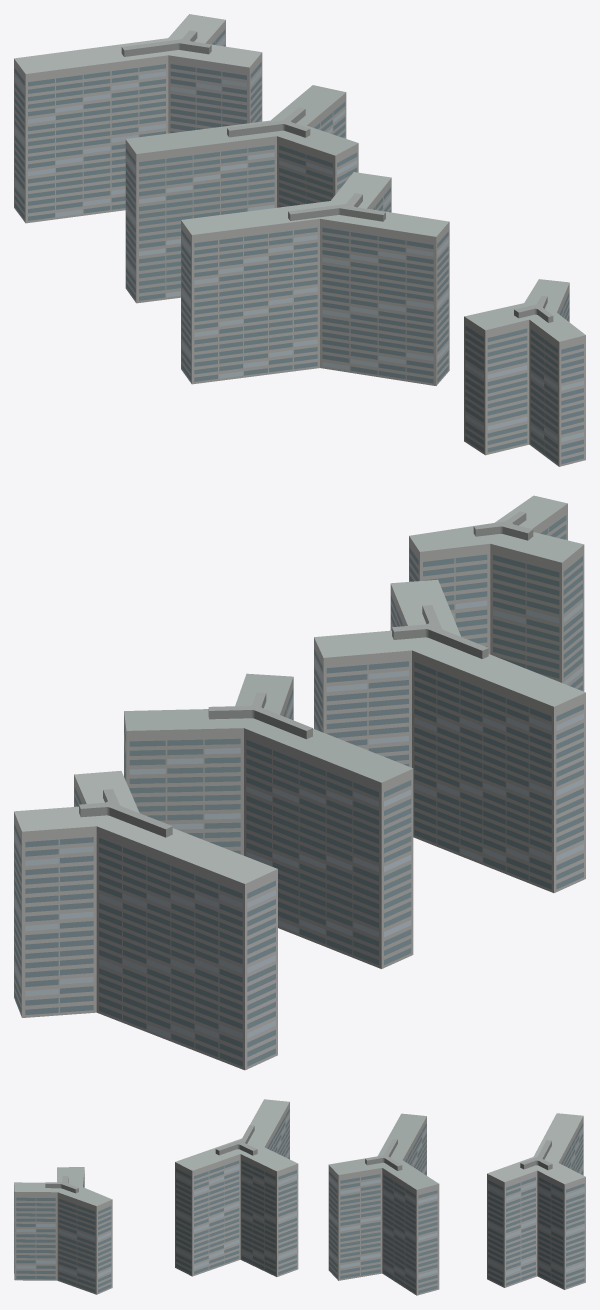
The model's file is apt-a12009305.glb.
The picture shows the model from 3 angles, top to bottom: view 1: azimuth 30°, elevation 25°; view 2: azimuth 150°, elevation 25°; view 3: azimuth 270°, elevation 25°; orthographic projection. The views are drawn at different scales.
Visible parts, largest first — view 1: apt-a12009305; view 2: apt-a12009305; view 3: apt-a12009305.
Part boxes in pixels (x1,y1,x2,y2): apt-a12009305: [14, 14, 585, 466]; apt-a12009305: [14, 495, 585, 1070]; apt-a12009305: [14, 1099, 585, 1295].
Bounding box in the file's own units: 98.55 × 56 × 263.
